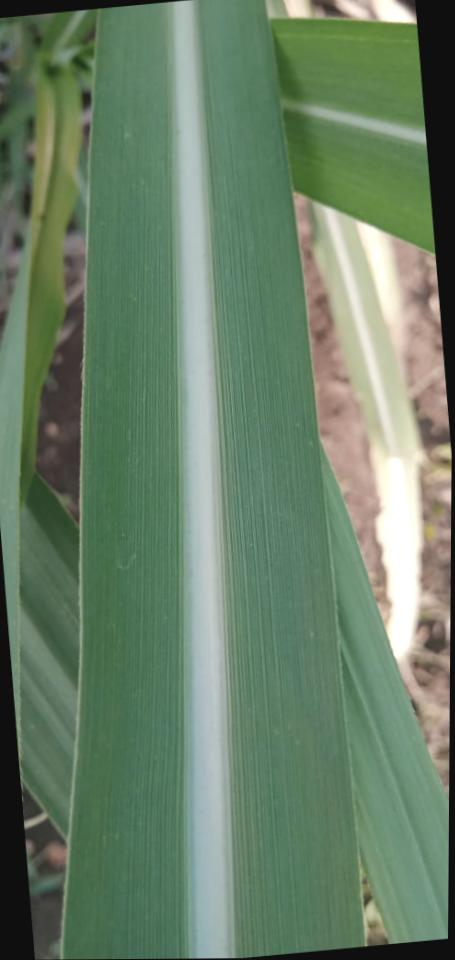Healthy: (197, 0, 364, 958), (61, 2, 188, 959), (322, 452, 449, 943), (19, 471, 81, 838), (280, 109, 434, 254), (271, 20, 423, 127), (0, 248, 26, 770)
